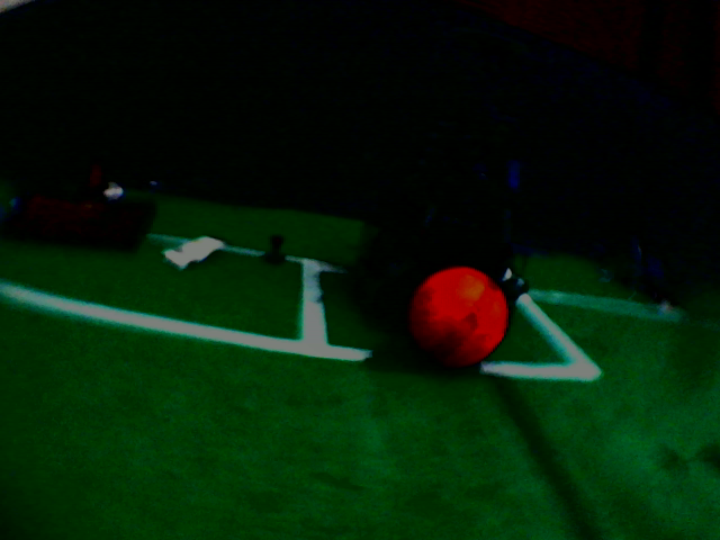bola: (400, 258, 510, 366)
